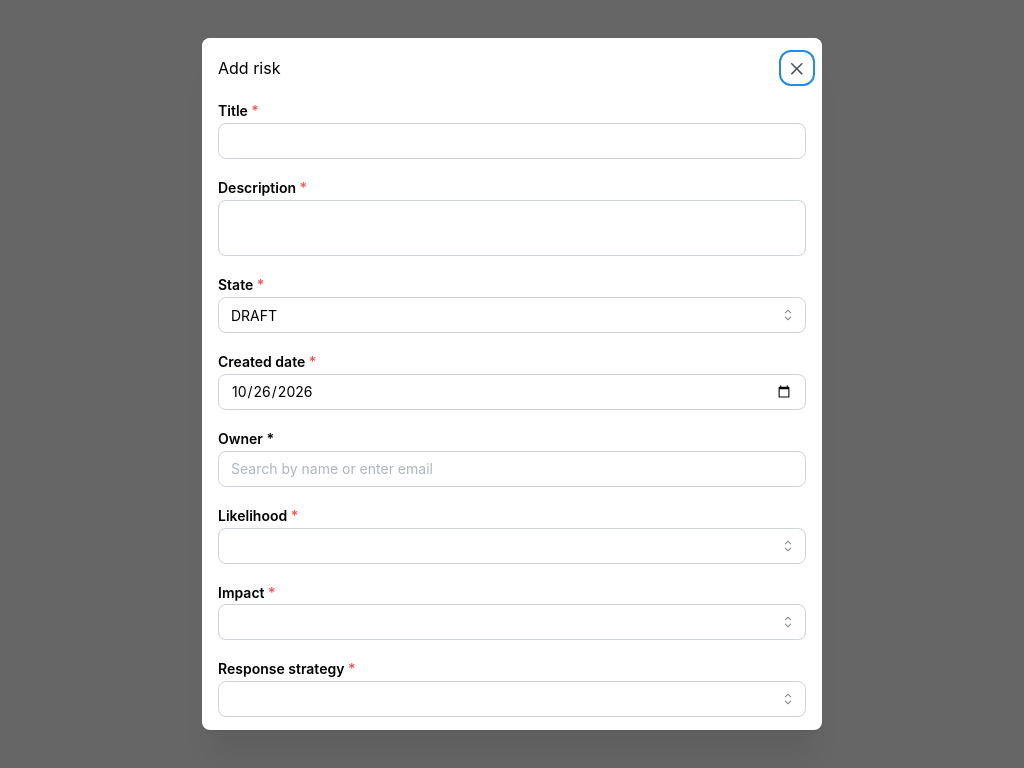
Test: Risk Owner field — email-only mode (PM2-02) › shows 'Email only' badge when a valid email not matching any user is typed
Type "newperson@external.com" into the field with placeholder "Search by name or enter email" at (512, 469), box 218,451 -> 806,487
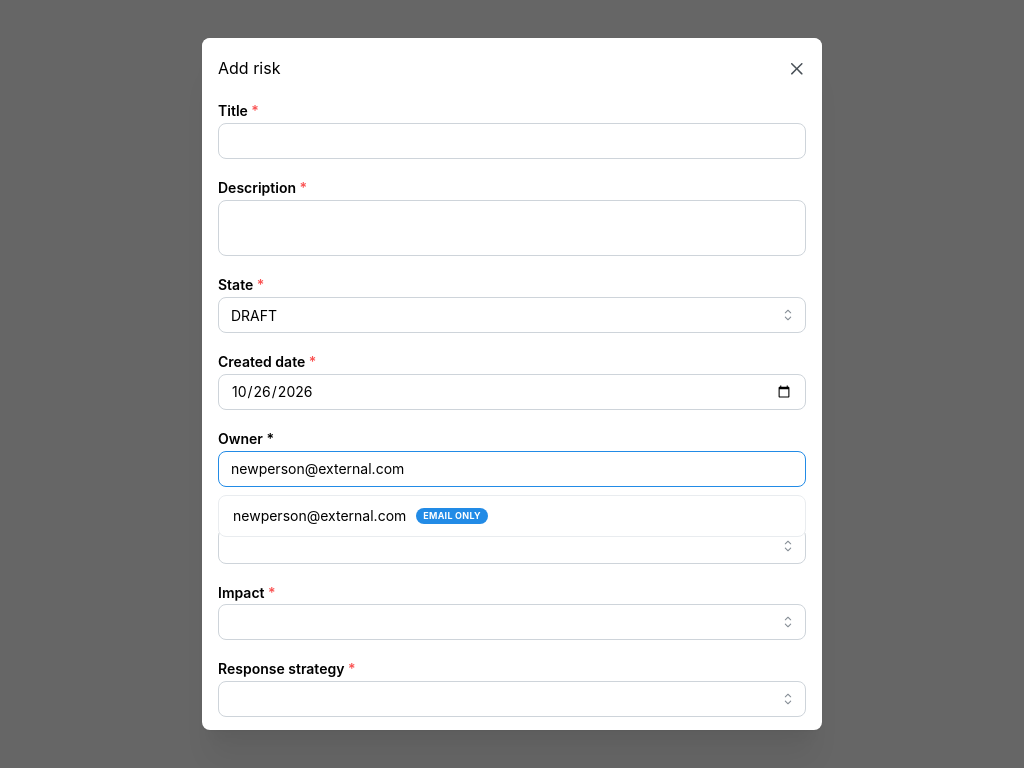
Check: the text "Email only" is shown, box 423,509 -> 481,523
